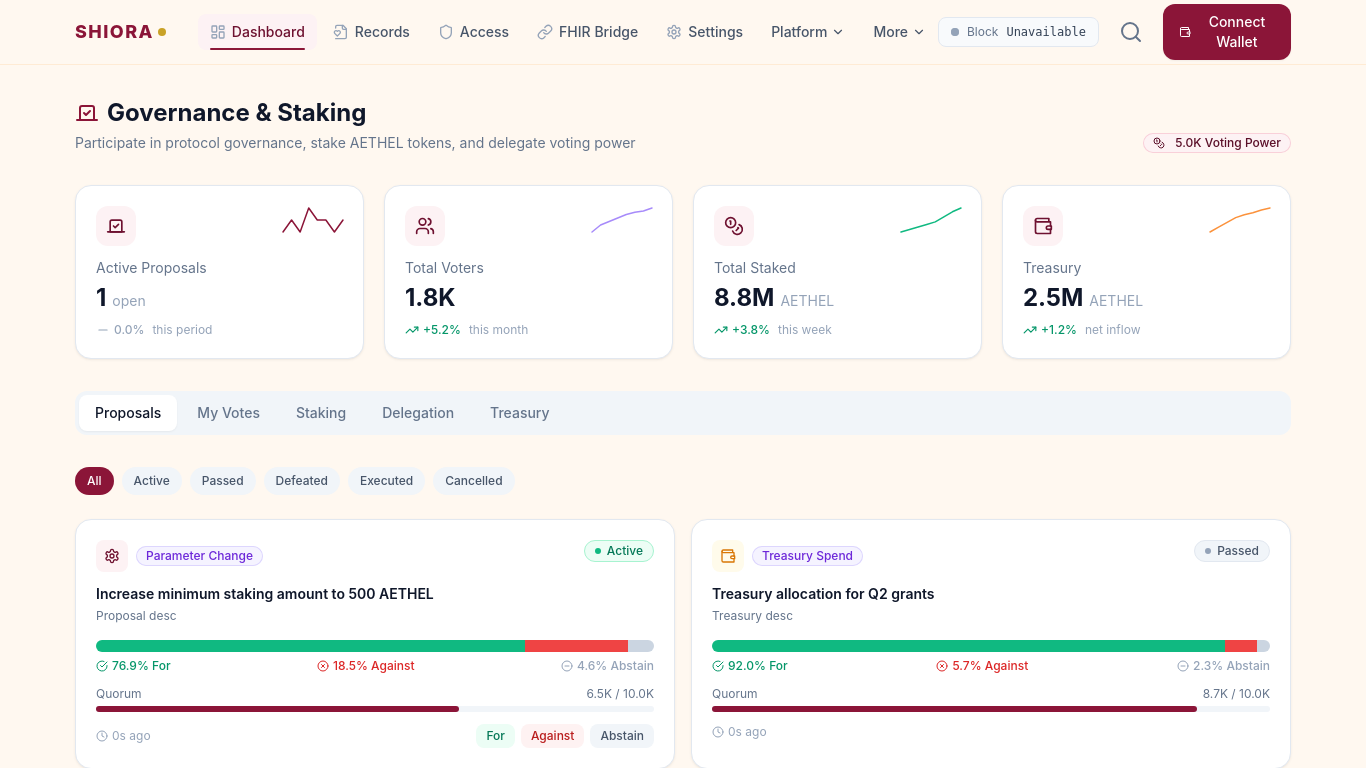
Test: GovernancePage › renders rewards history on staking tab
Click the tab "Staking".
click(321, 413)  # box [280, 395, 362, 431]
(page scrolled)
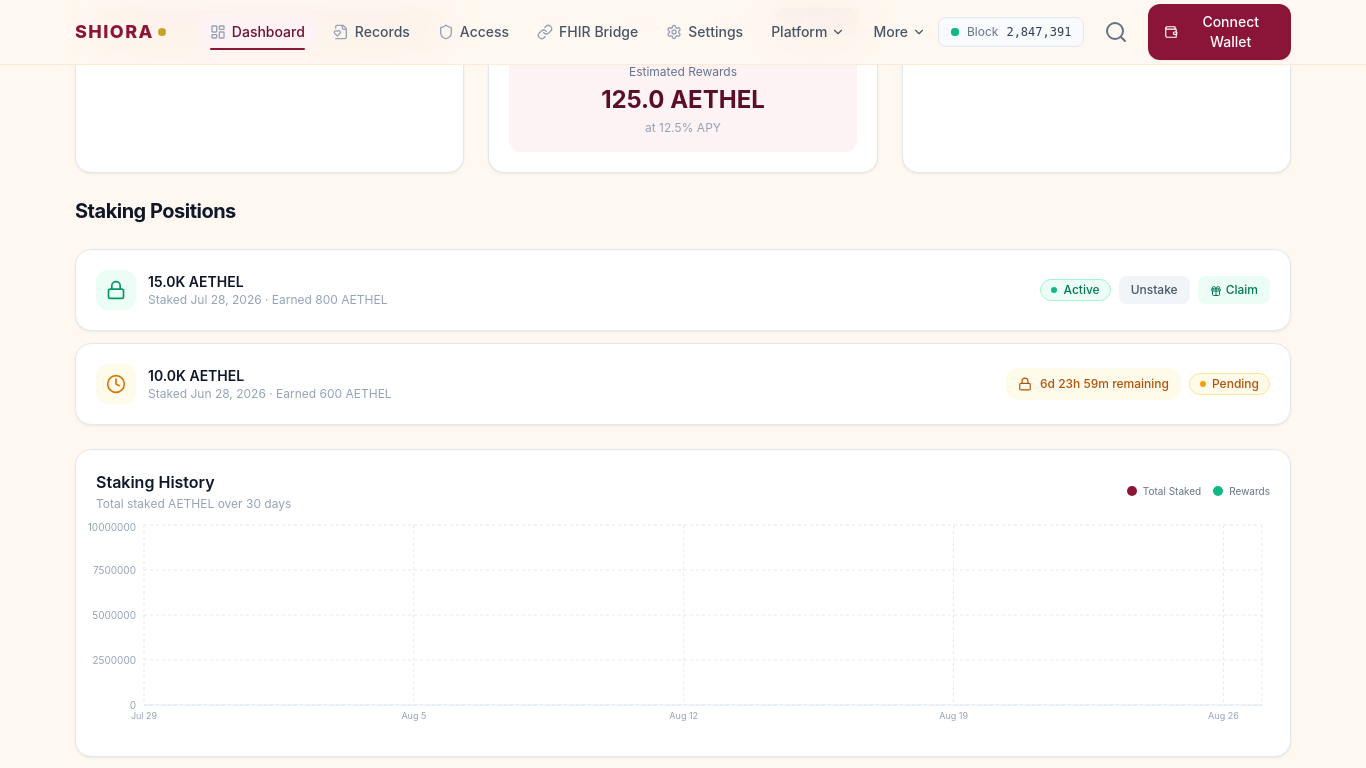
expect the text "Pending" is shown: met, box [1189, 373, 1270, 395]
